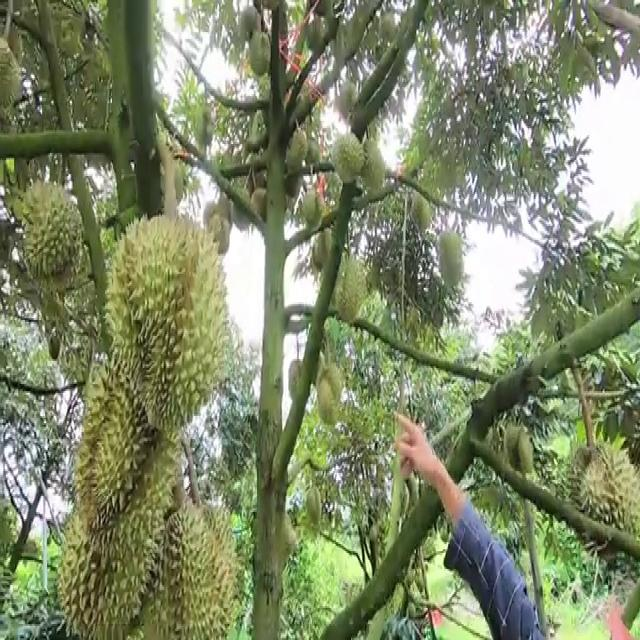durian: (51, 406, 186, 638), (99, 204, 234, 432), (65, 350, 162, 538), (127, 479, 243, 636), (566, 432, 639, 562), (16, 170, 84, 289), (334, 252, 371, 331), (314, 360, 347, 430), (329, 128, 366, 187), (0, 32, 25, 119), (434, 220, 464, 292), (358, 137, 389, 195), (277, 124, 309, 173), (299, 182, 327, 235), (246, 28, 272, 78), (237, 1, 263, 49), (287, 356, 311, 408), (194, 97, 217, 151), (247, 182, 274, 225), (304, 483, 323, 527)
